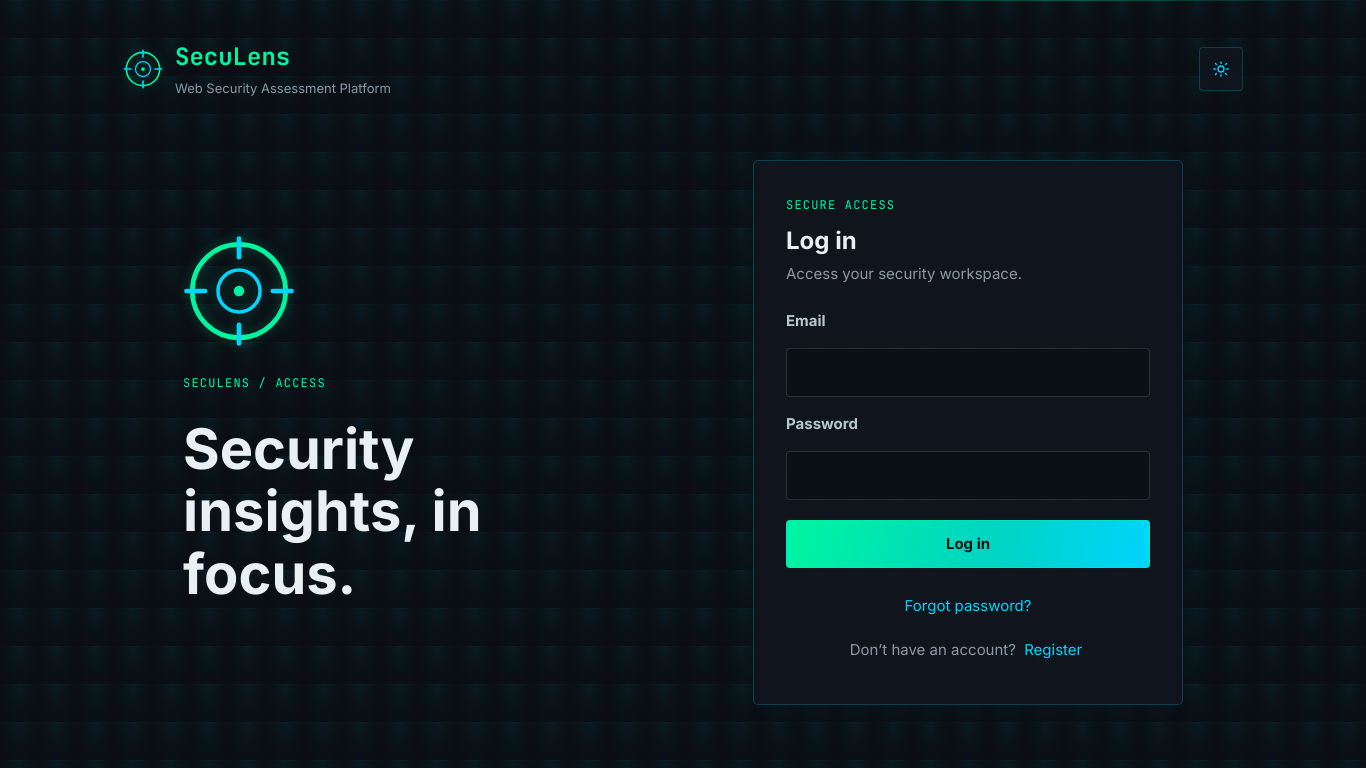
Test: a failed login shows the server error without any resend action
Type "person@example.com" into the field labelled "Email" at (968, 372), box [786,348,1150,397]
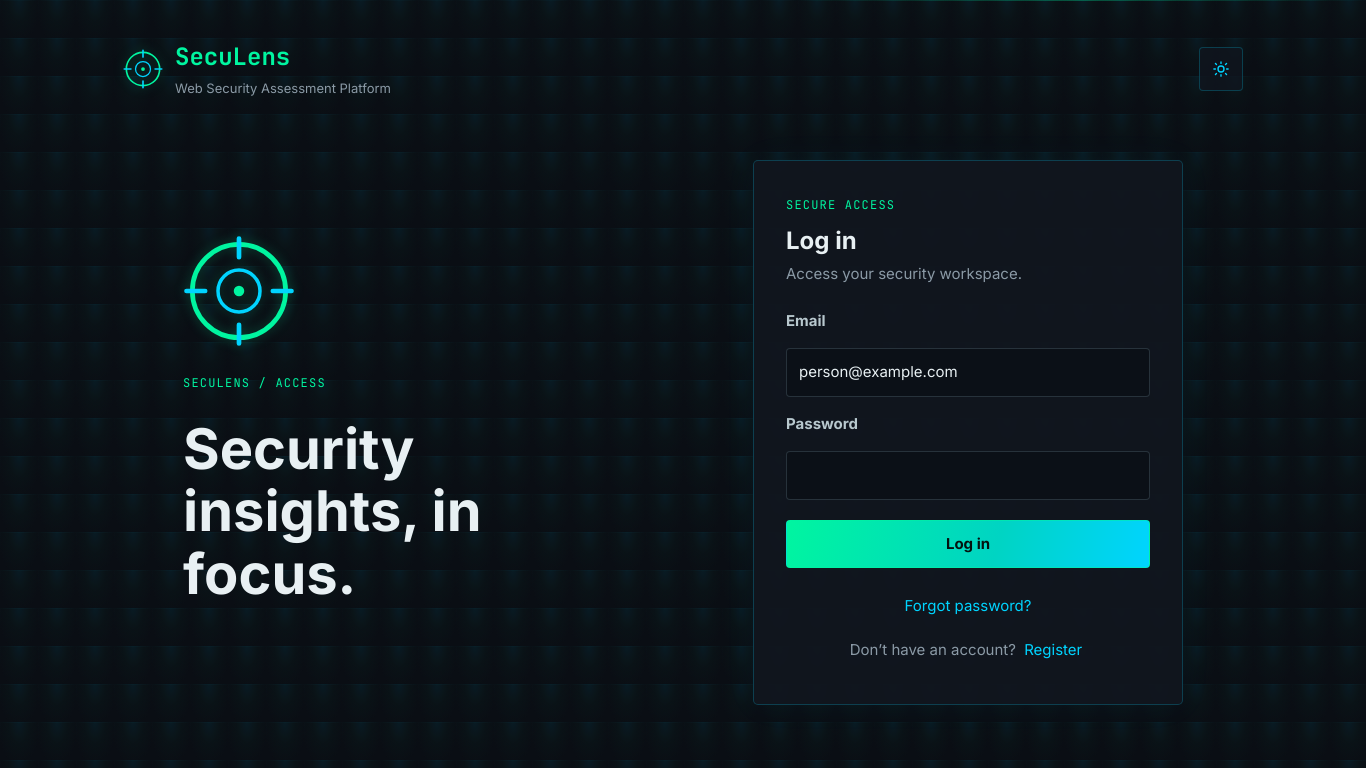
Type "wrong-password" into the password field labelled "Password" at (968, 475), box [786,451,1150,500]
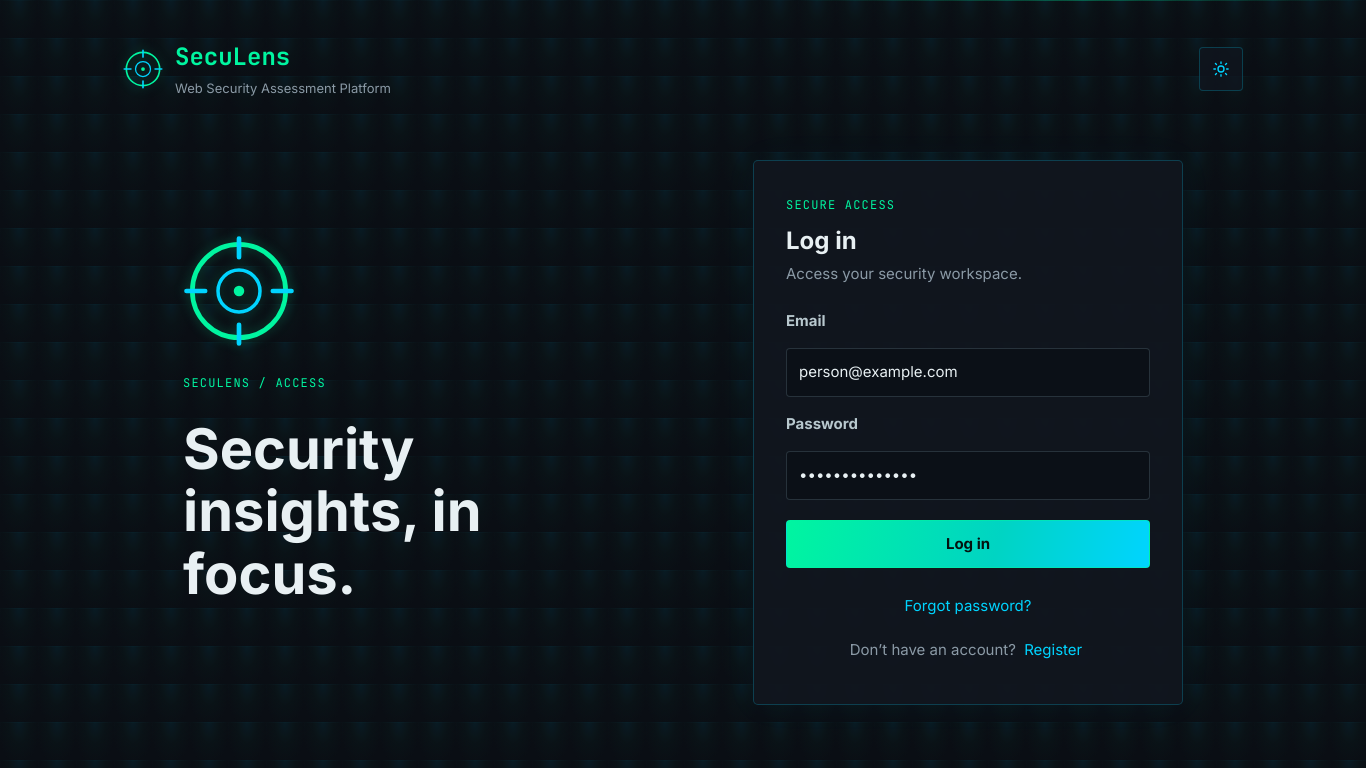
Click the button "Log in" at (968, 544), box [786,520,1150,568]
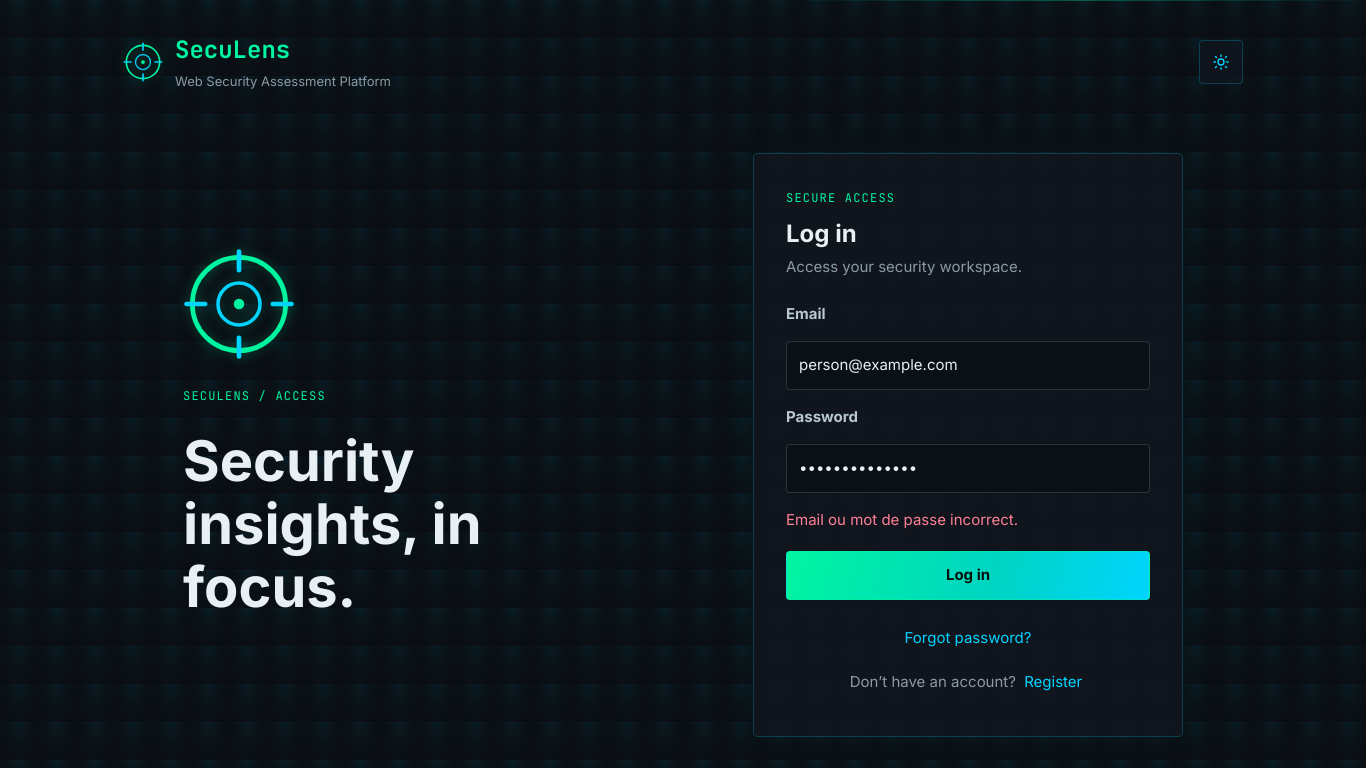
Now the message reads "Email ou mot de passe incorrect.", box [786,510,1018,529]
